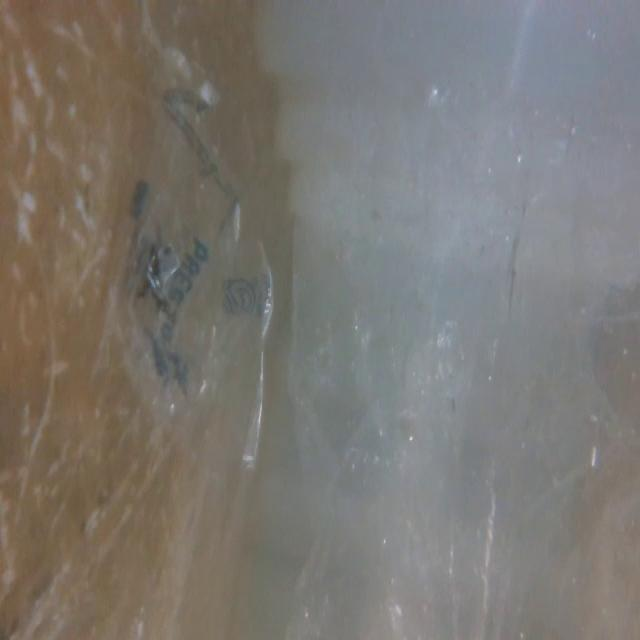plastic bags: (296, 64, 551, 640), (109, 83, 277, 479)
